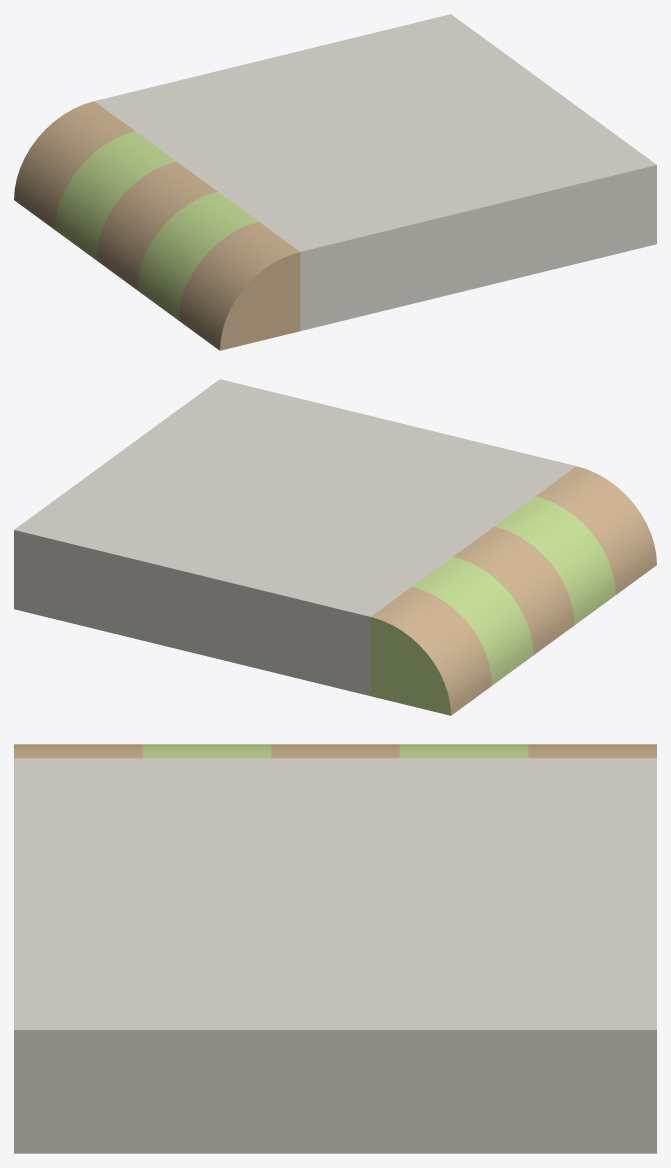
Rendered from building_009.glb.
The picture shows the model from 3 angles, top to bottom: view 1: azimuth 30°, elevation 25°; view 2: azimuth 150°, elevation 25°; view 3: azimuth 270°, elevation 25°; orthographic projection. The views are drawn at different scales.
Parts seen in each view (by area): view 1: building_009; view 2: building_009; view 3: building_009.
Part boxes in pixels (left/top/right/bottom): building_009: left=14, top=14, right=656, bottom=350; building_009: left=14, top=379, right=656, bottom=715; building_009: left=14, top=744, right=656, bottom=1153.
Bounding box in the file's own units: 1.23 × 0.2125 × 1.
